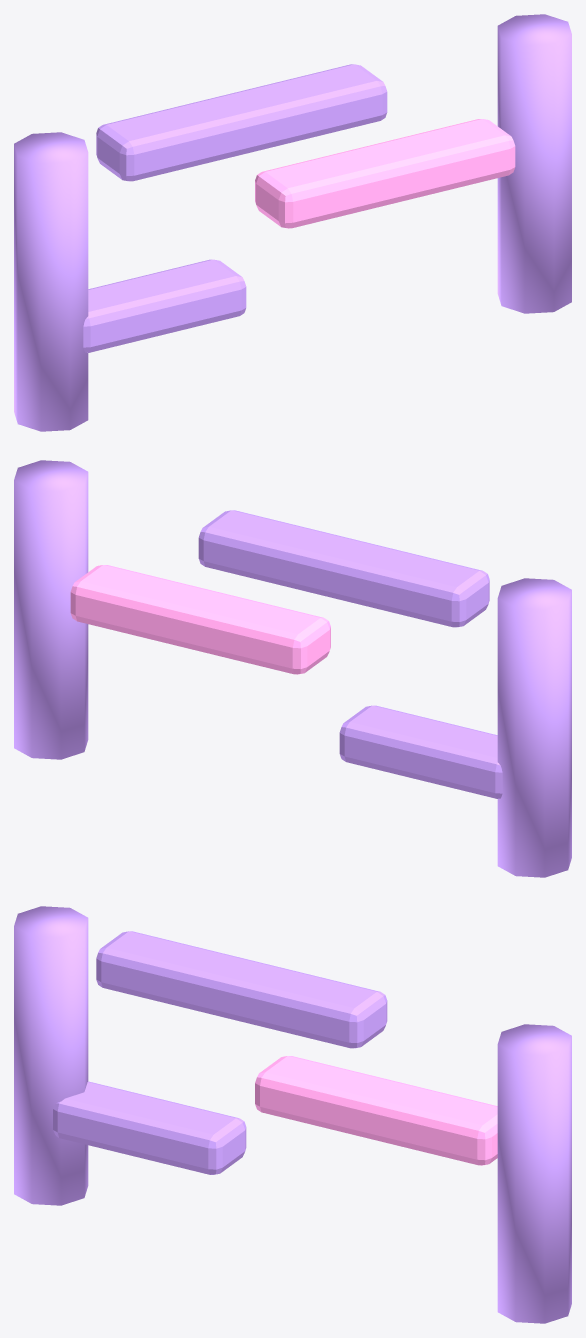
Rendered from wall-phase.glb.
The picture shows the model from 3 angles, top to bottom: view 1: azimuth 30°, elevation 25°; view 2: azimuth 150°, elevation 25°; view 3: azimuth 330°, elevation 25°; orthographic projection.
Parts seen in each view (by area): view 1: mesh_wall_phase_body, mesh_wall_phase_accent; view 2: mesh_wall_phase_body, mesh_wall_phase_accent; view 3: mesh_wall_phase_body, mesh_wall_phase_accent.
Boxes of the visible parts, <box> form: mesh_wall_phase_body: <box>14,14,571,431</box>; mesh_wall_phase_accent: <box>255,119,515,228</box>; mesh_wall_phase_body: <box>14,460,571,877</box>; mesh_wall_phase_accent: <box>70,565,330,674</box>; mesh_wall_phase_body: <box>14,906,571,1323</box>; mesh_wall_phase_accent: <box>255,1056,497,1165</box>.
Size of the model in its own units: 1.07 by 0.5 by 0.13.
